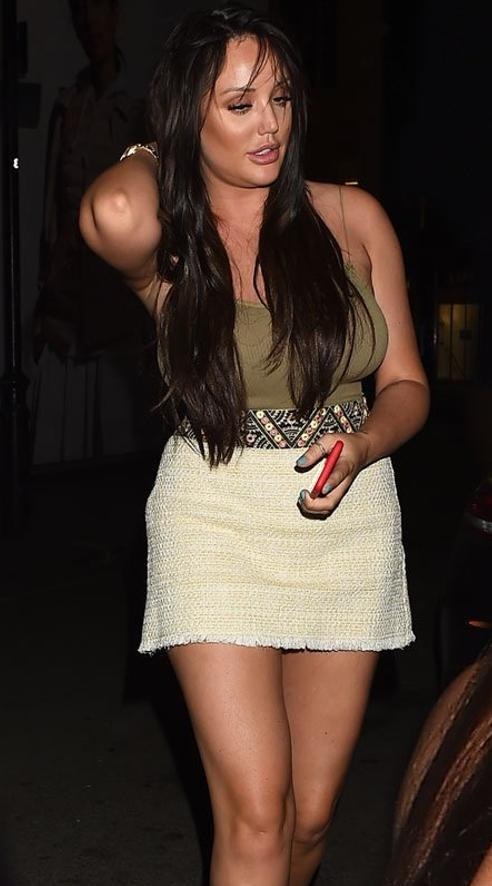Drunk: (203, 36, 295, 177)
